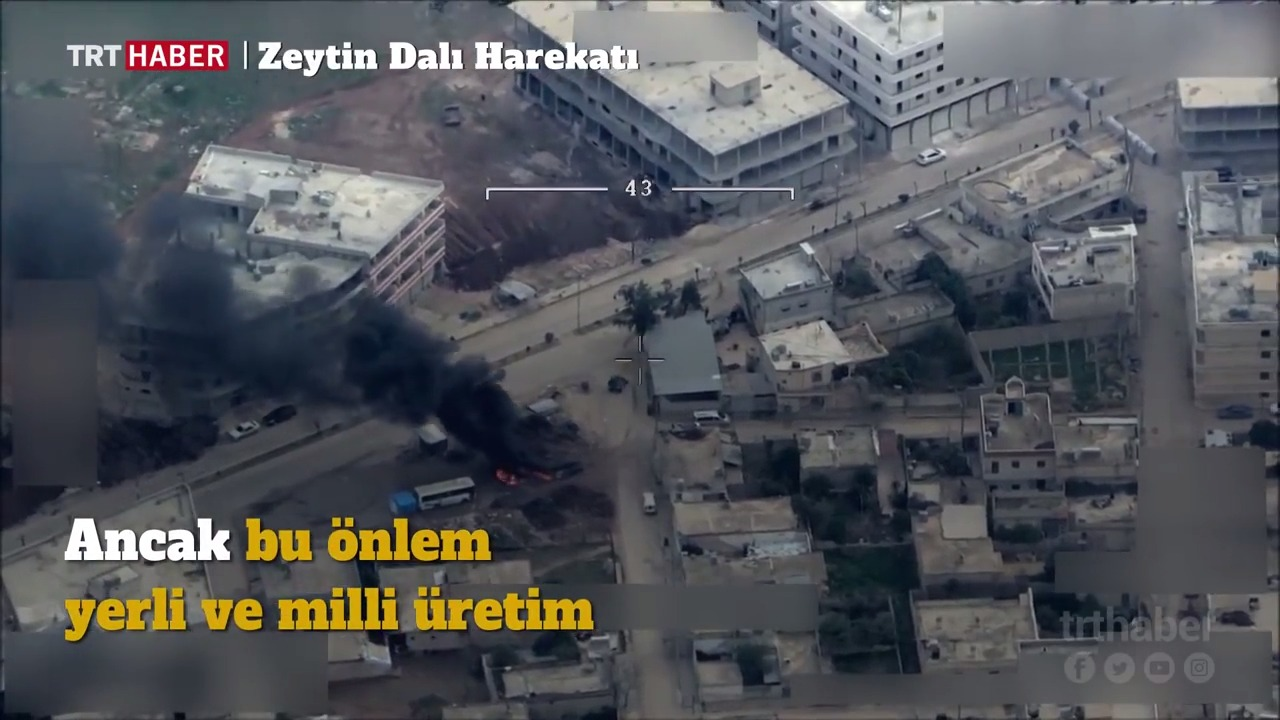arac: (416, 466, 484, 516), (214, 416, 263, 447), (265, 396, 299, 433), (911, 142, 963, 166), (635, 481, 668, 515), (1212, 399, 1256, 421), (689, 404, 734, 425), (601, 364, 631, 395), (1175, 201, 1191, 234), (1132, 203, 1153, 224)
bina: (754, 301, 906, 405)
